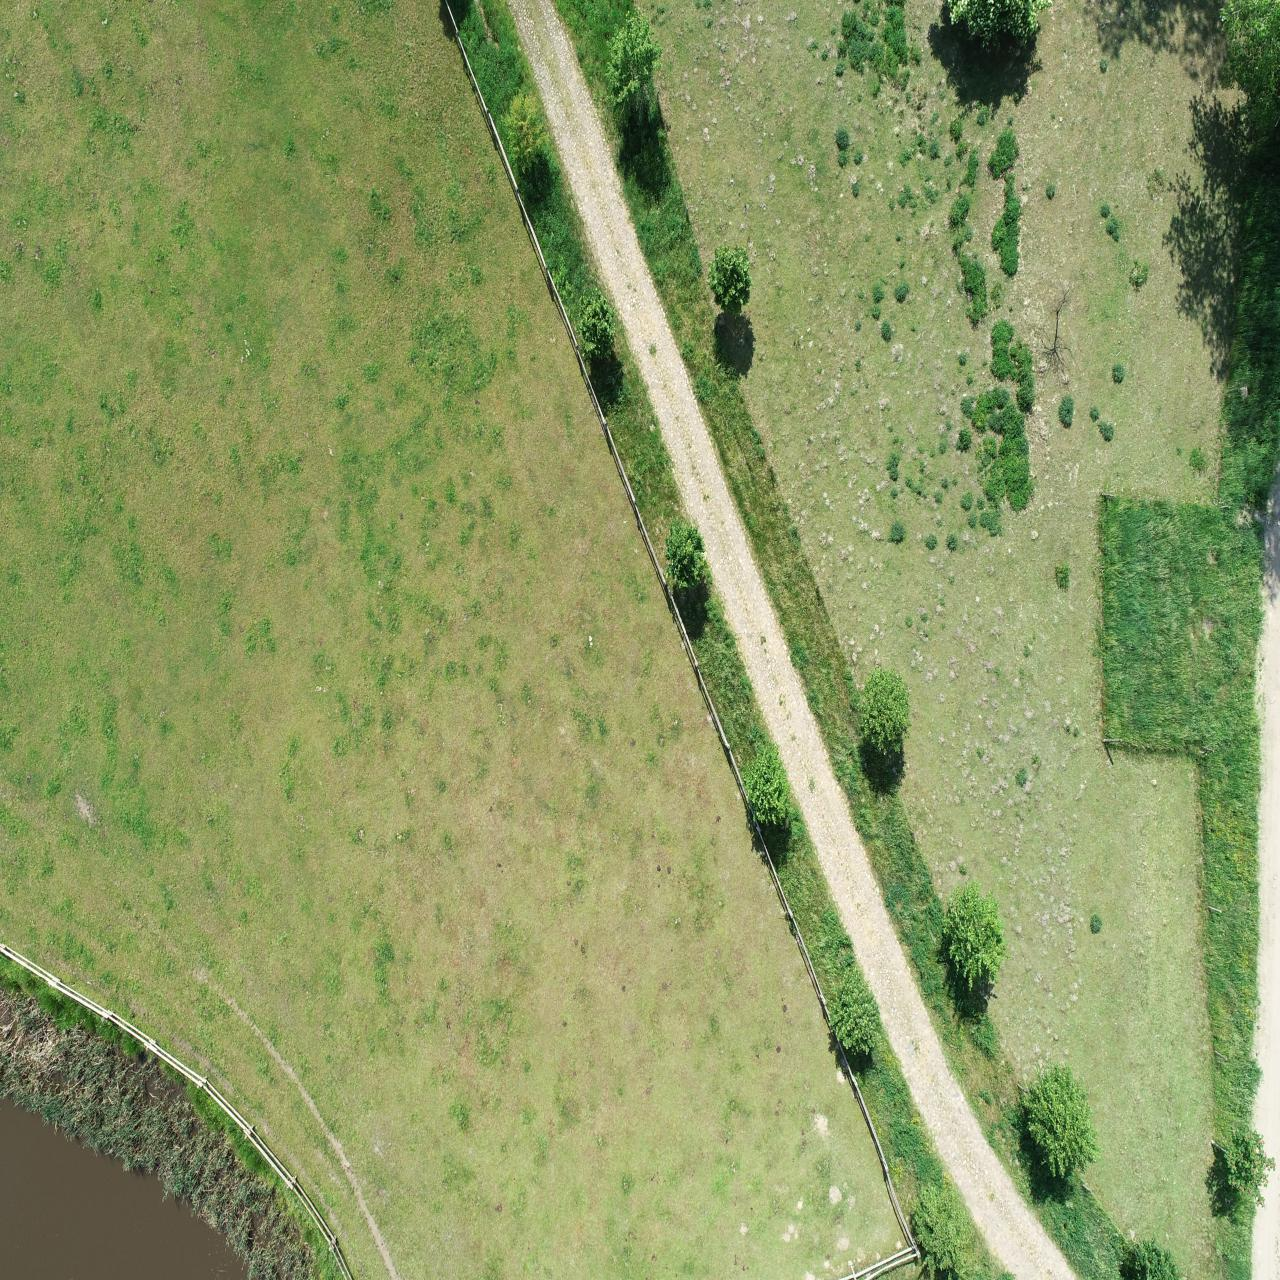cow: (1148, 463, 1177, 513), (1173, 899, 1203, 945), (1186, 1112, 1212, 1164), (987, 999, 1020, 1039), (1213, 730, 1239, 778), (1091, 831, 1115, 884), (1103, 1092, 1139, 1126), (1096, 922, 1121, 971), (1170, 666, 1193, 716), (1180, 804, 1212, 840), (1067, 890, 1094, 930), (1155, 764, 1175, 817), (975, 803, 1001, 843), (1019, 572, 1039, 624), (1138, 805, 1158, 856), (1216, 835, 1234, 887), (1023, 810, 1042, 860), (1237, 583, 1258, 626), (1046, 879, 1080, 904), (1042, 933, 1070, 961), (1218, 592, 1242, 618)
